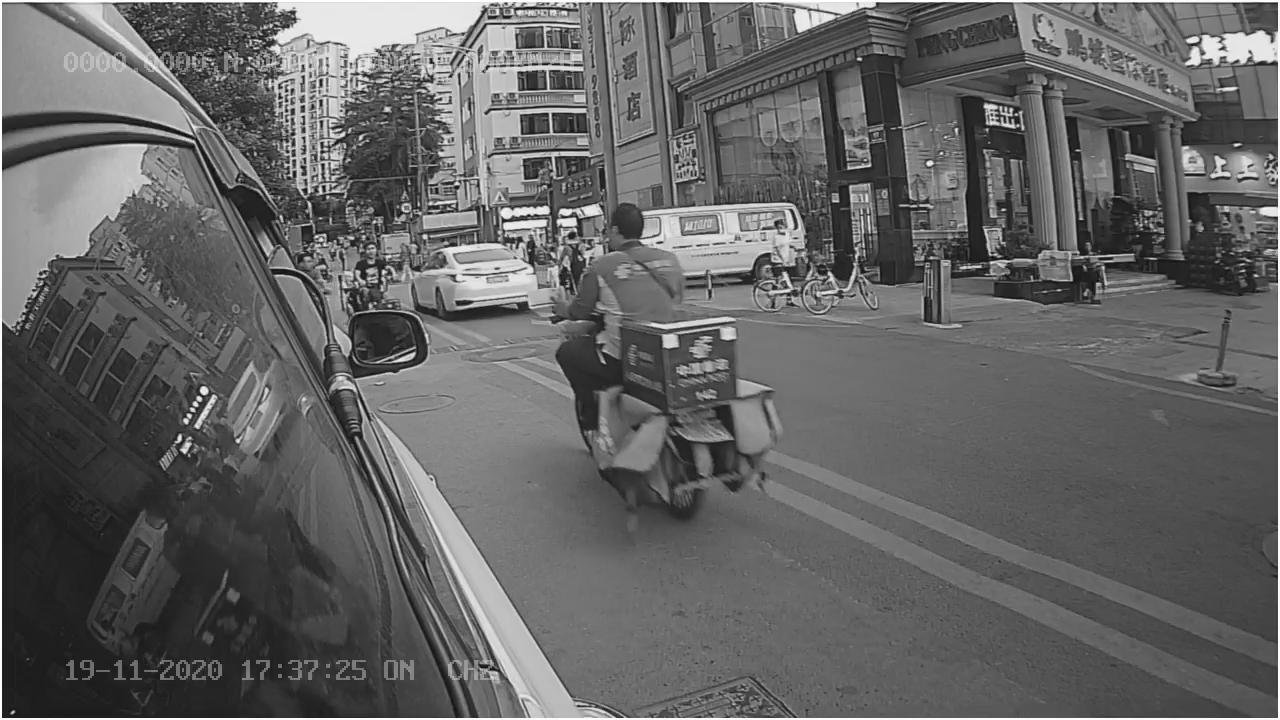person: (575, 203, 687, 308)
